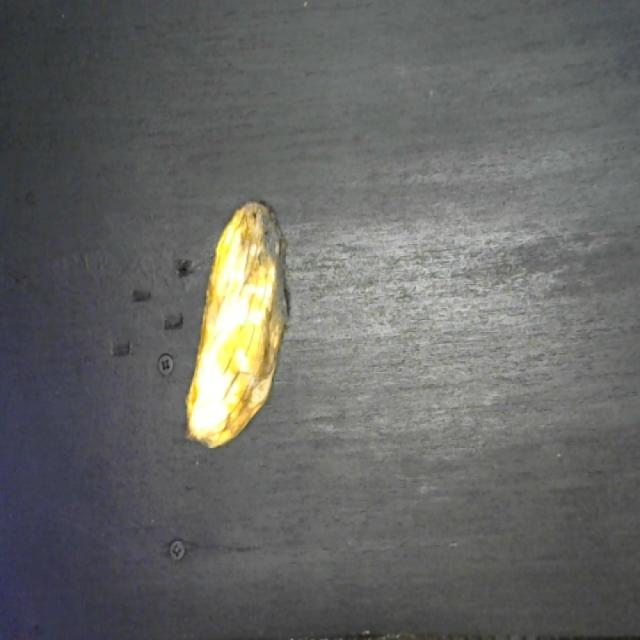biodegradable: (180, 194, 290, 454)
